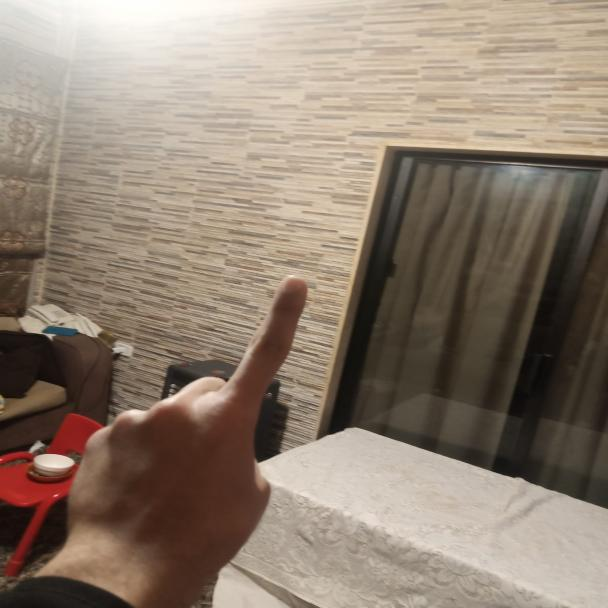one: (71, 275, 314, 572)
